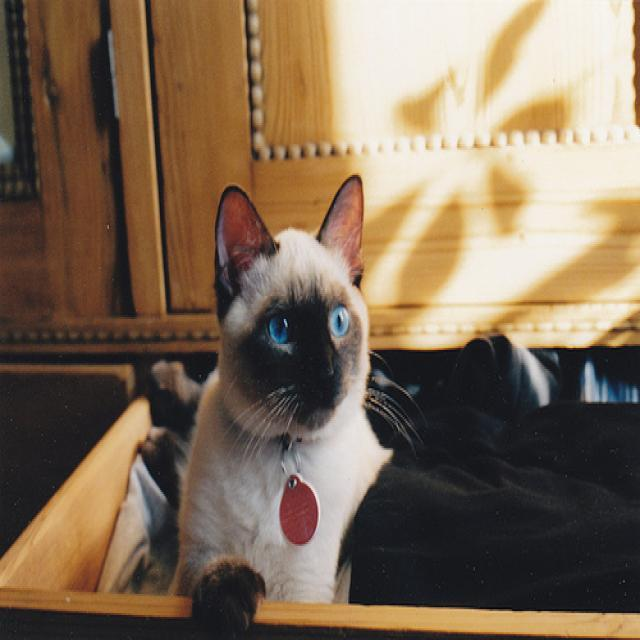Siamese: (213, 173, 363, 436)
